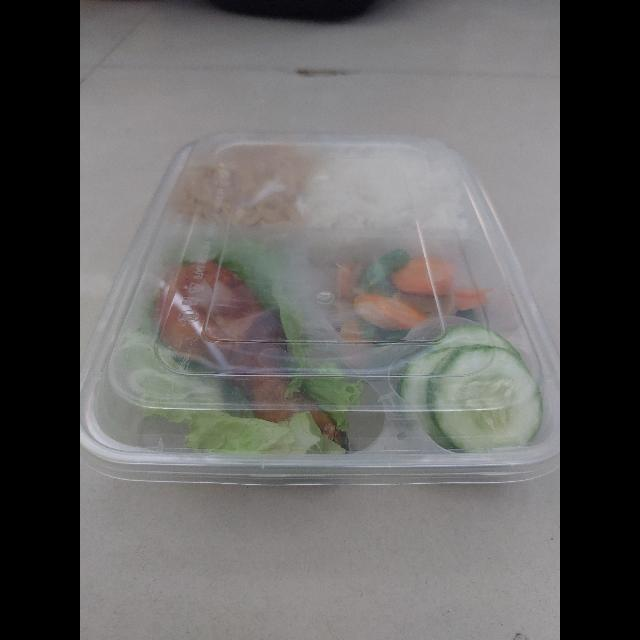bento: (80, 130, 556, 490)
